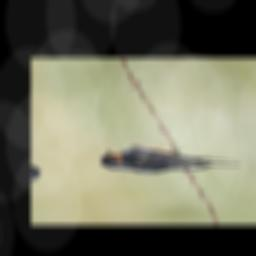Swallow: (93, 133, 243, 185)
